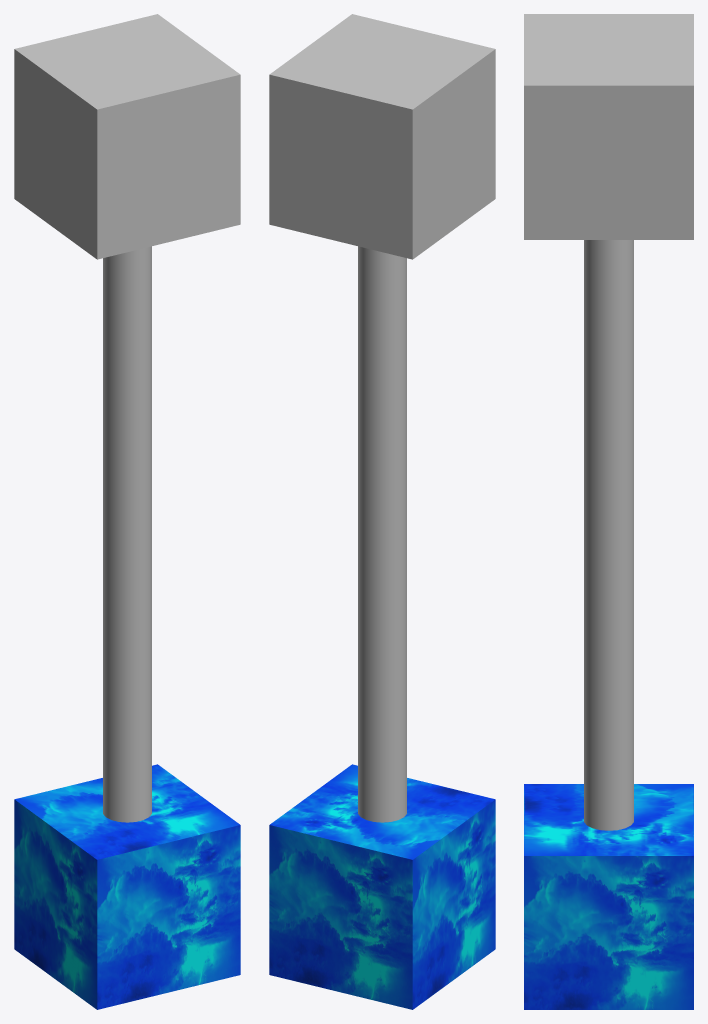
Rendered from longBox.FBX.
3 renders of one model, left to right at view 1: azimuth 30°, elevation 25°; view 2: azimuth 150°, elevation 25°; view 3: azimuth 270°, elevation 25°, orthographic. The views are drawn at different scales.
Visible parts, largest first — view 1: Box001, Box002, Cylinder001; view 2: Box001, Box002, Cylinder001; view 3: Box001, Box002, Cylinder001.
Part boxes in pixels (x1,y1,x2,y2): Box001: (14,14,240,259); Box002: (14,764,240,1009); Cylinder001: (103,246,151,822); Box001: (269,14,495,259); Box002: (269,764,495,1009); Cylinder001: (358,246,406,822); Box001: (524,14,693,239); Box002: (524,784,693,1009); Cylinder001: (584,240,633,830).
Bounding box in the file's own units: 20 × 120 × 20.
